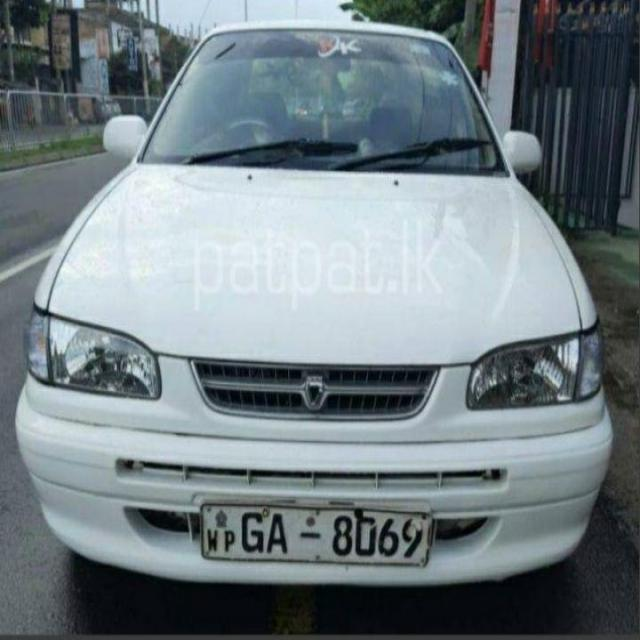license-plate: (198, 500, 428, 570)
